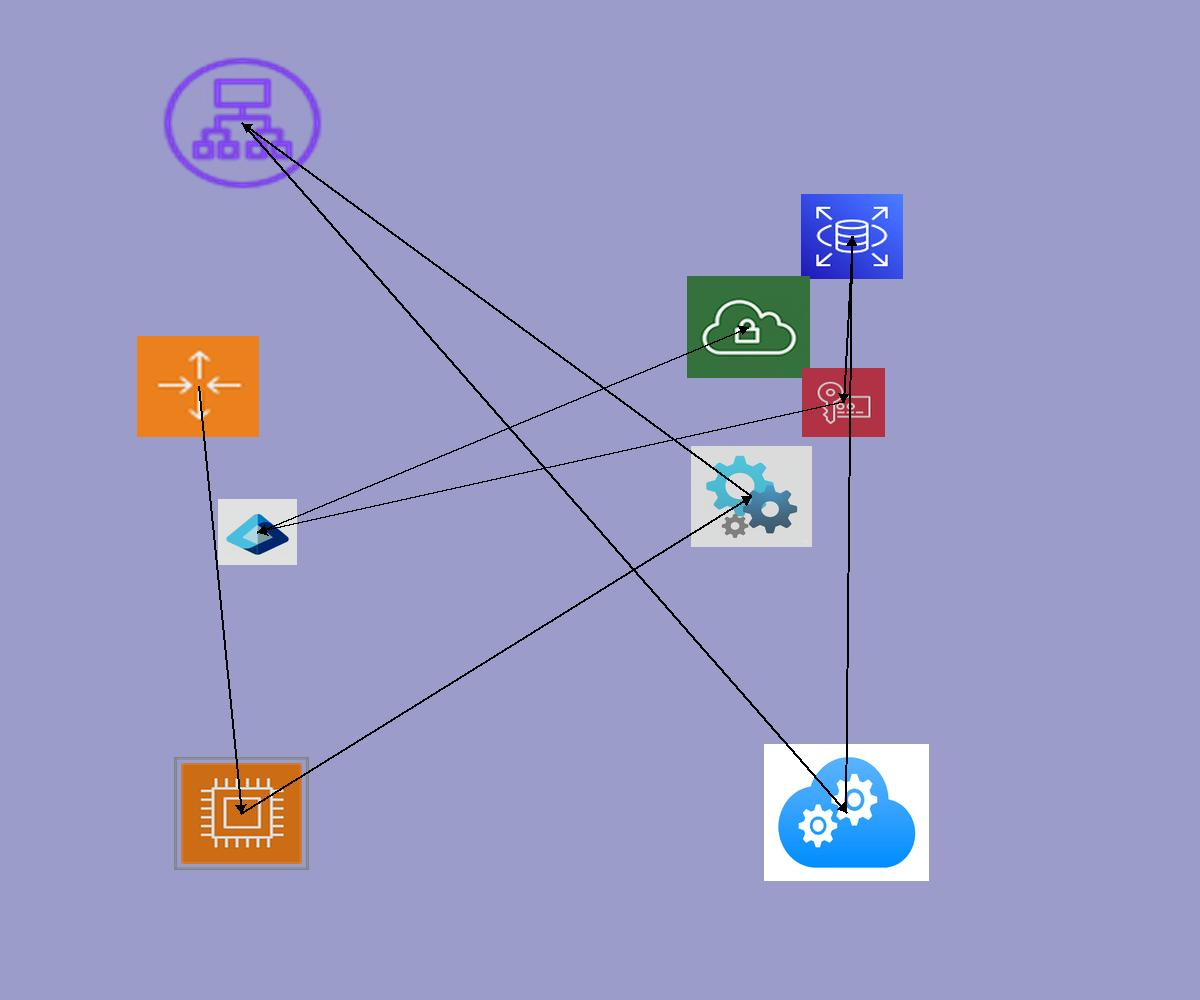AWS-Category_Compute: (174, 757, 309, 870)
AWS-Key-Management-Service: (802, 368, 885, 437)
AWS-Private_vpc: (687, 276, 810, 378)
AWS-RDS: (801, 194, 903, 279)
AWS-Res_Elastic-Load-Balancing_Application-Load-Balancer: (157, 52, 328, 194)
AWS-Scaling-group: (137, 336, 259, 437)
Azure_api: (691, 446, 812, 547)
Azure_cloud_services: (764, 744, 929, 881)
Azure_microsoft_entra: (218, 499, 297, 565)
